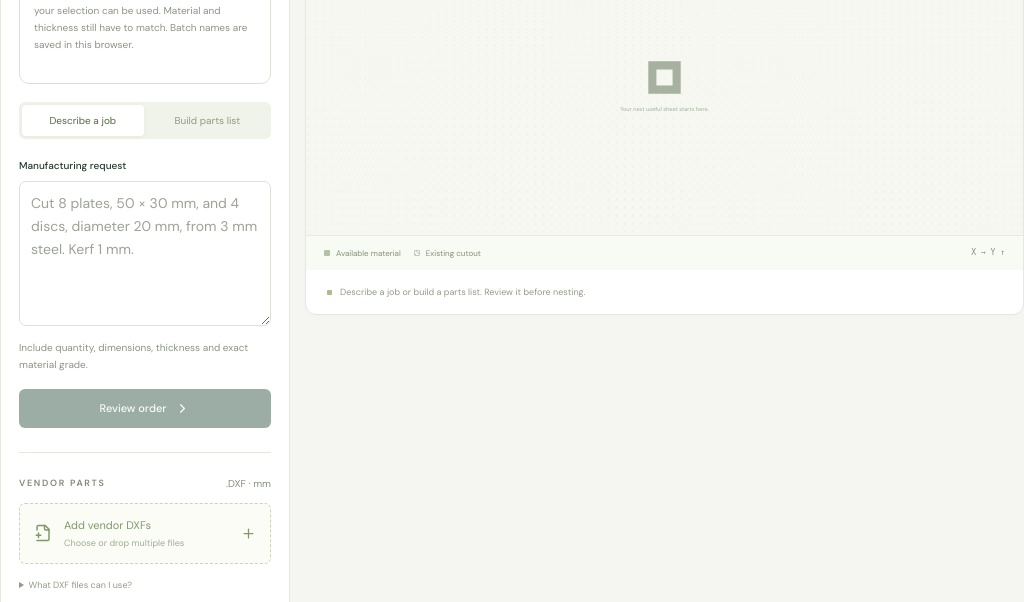
Test: order workflow › blocks program export when current stock no longer matches the saved plan
This screenshot has width=1024, height=602.
Type "Make 2 discs diameter 20mm in 3mm ss304, kerf 1mm" into the text box labelled "Manufacturing request" at [145, 253], box [19,181,271,326]
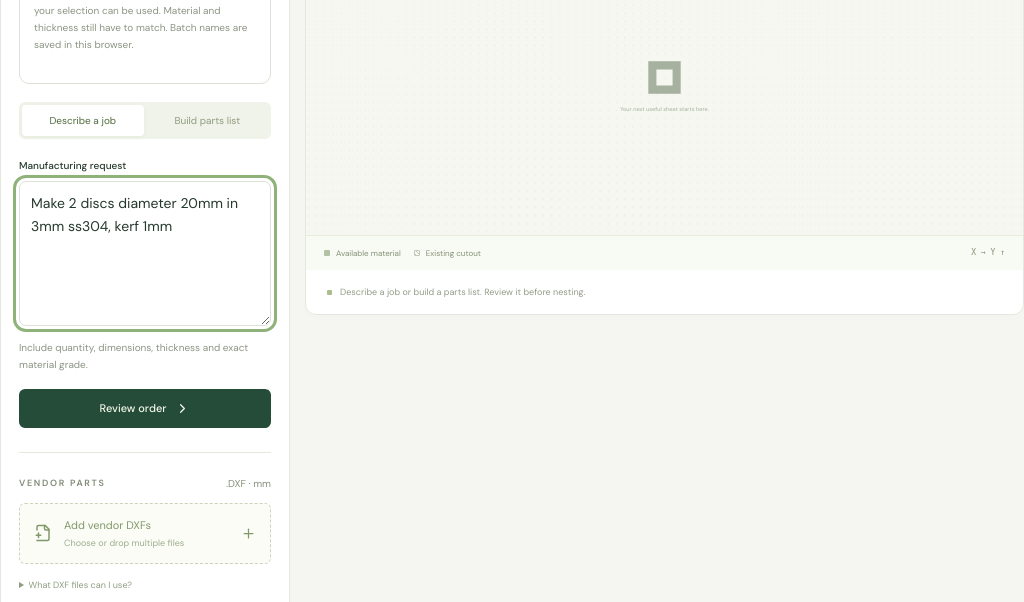
Click the button "Review order" at [145, 408], box [19,389,271,428]
(page scrolled)
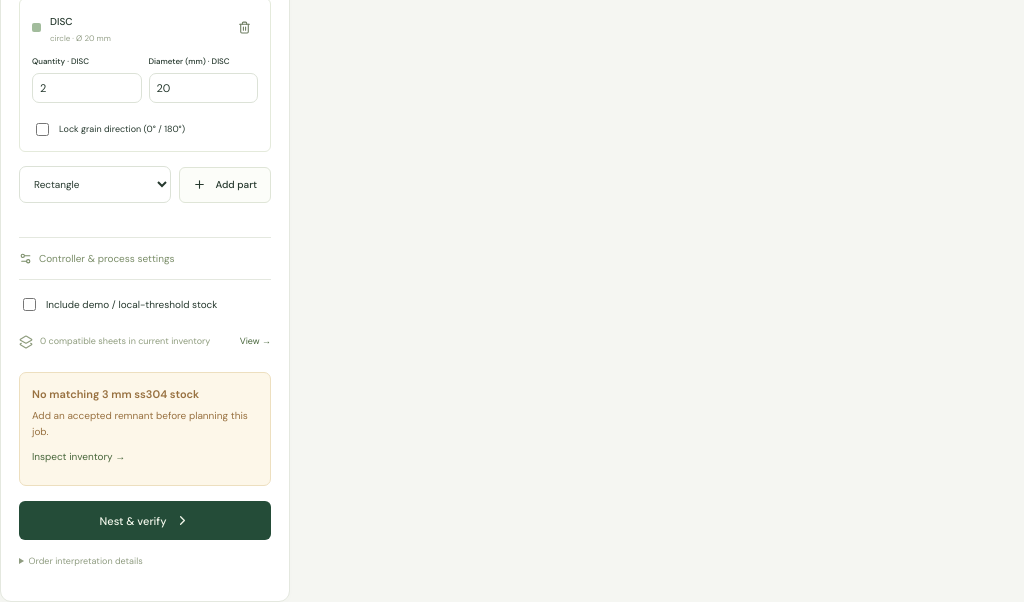
Expected: the number field labelled "Quantity · DISC" is shown, [32,73,142,103]
Click the button "Nest & verify" at [145, 521], box [19,501,271,540]
(page scrolled)
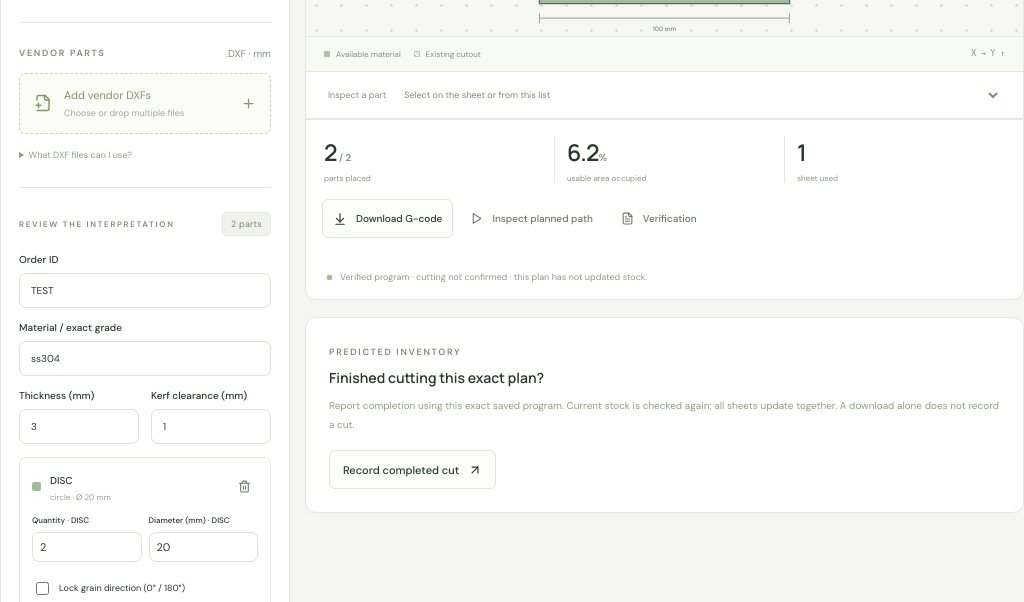
Click the button "Download G-code" at [388, 219], box [322,199,453,238]
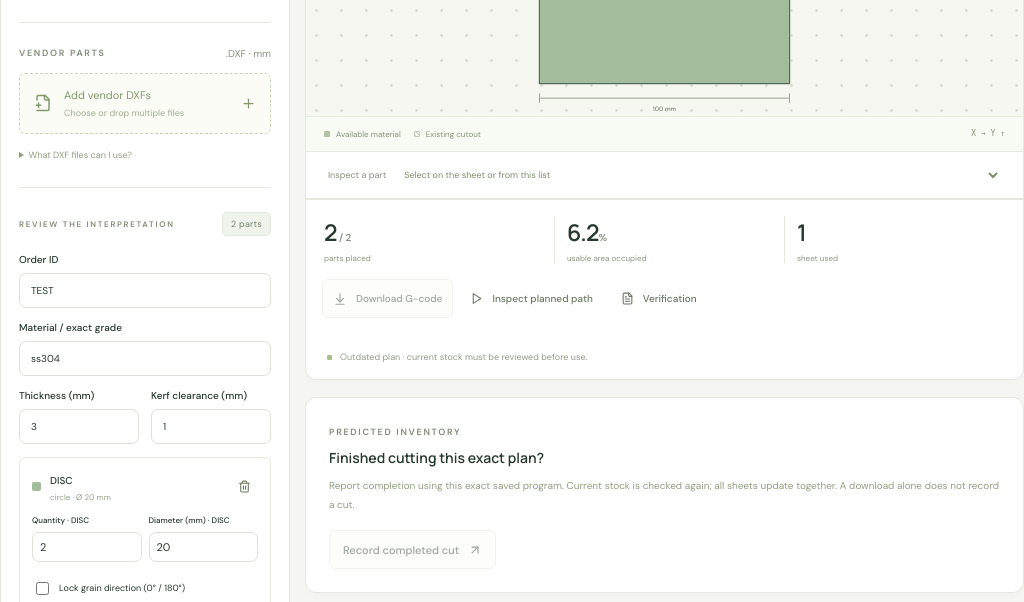
Expected: the button "Download G-code" is disabled, [322,279,453,318]
